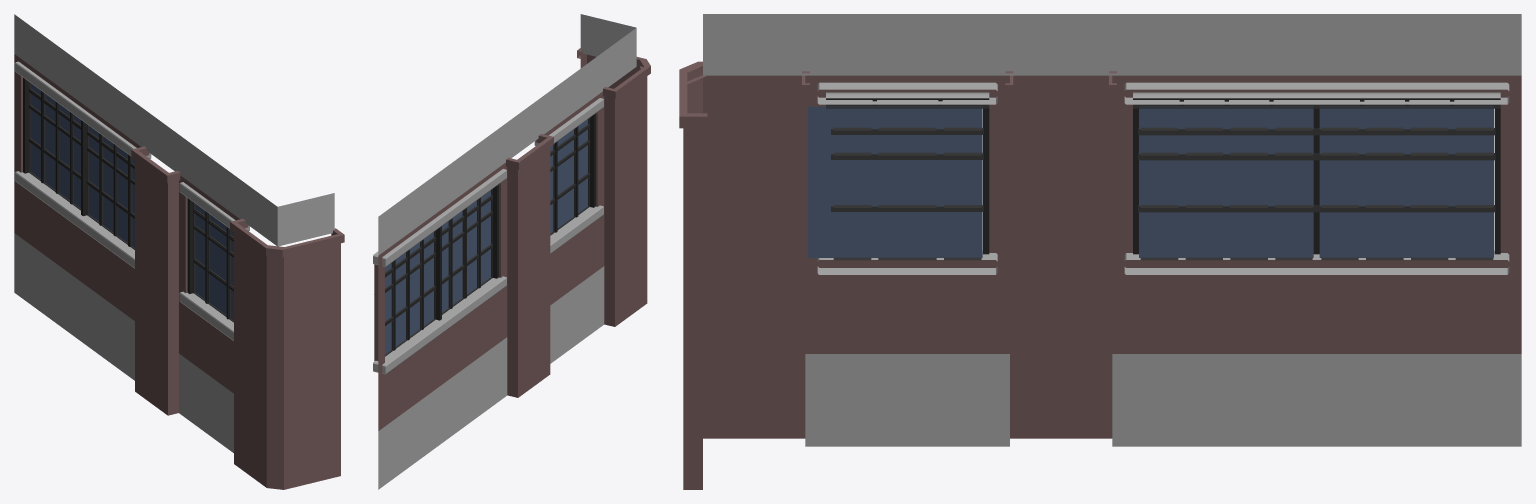
Rendered from hoek.fbx.
The picture shows the model from 3 angles, left to right: view 1: azimuth 30°, elevation 25°; view 2: azimuth 150°, elevation 25°; view 3: azimuth 270°, elevation 25°; orthographic projection. The views are drawn at different scales.
Visible parts, largest first — view 1: Plane862, Plane863, Plane904, Plane894, Object318, Plane865, Plane878, Plane896, Plane907, Object314, Object315, Object319 (+12 smaller); view 2: Plane863, Plane862, Plane904, Plane894, Object318, Plane865, Plane878, Plane896, Object317, Object320, Object314, Object315 (+12 smaller); view 3: Plane863, Plane862, Plane904, Plane894, Plane896, Plane878, Plane865, Object318, Object314, Object315, Object316, Object317 (+11 smaller).
Part boxes in pixels (bbox=[...]): Plane862: bbox=[230, 219, 344, 489]; Plane863: bbox=[14, 54, 151, 320]; Plane904: bbox=[131, 146, 180, 415]; Plane894: bbox=[179, 175, 249, 393]; Object318: bbox=[23, 77, 134, 246]; Plane865: bbox=[30, 83, 80, 208]; Plane878: bbox=[89, 126, 134, 247]; Plane896: bbox=[195, 204, 233, 320]; Plane907: bbox=[277, 193, 334, 246]; Object314: bbox=[14, 233, 46, 316]; Object315: bbox=[47, 257, 79, 340]; Object319: bbox=[179, 354, 211, 436]; Plane863: bbox=[373, 162, 507, 430]; Plane862: bbox=[577, 48, 650, 326]; Plane904: bbox=[506, 134, 553, 397]; Plane894: bbox=[534, 91, 604, 304]; Object318: bbox=[385, 184, 498, 350]; Plane865: bbox=[385, 232, 433, 354]; Plane878: bbox=[442, 190, 490, 312]; Plane896: bbox=[550, 119, 587, 233]; Object317: bbox=[475, 337, 507, 418]; Object320: bbox=[572, 266, 604, 347]; Object314: bbox=[378, 408, 410, 489]; Object315: bbox=[410, 384, 442, 465]; Plane863: bbox=[1112, 75, 1521, 353]; Plane862: bbox=[679, 61, 809, 489]; Plane904: bbox=[1005, 71, 1116, 438]; Plane894: bbox=[805, 75, 1009, 353]; Plane896: bbox=[808, 106, 982, 257]; Plane878: bbox=[1139, 106, 1313, 257]; Plane865: bbox=[1319, 106, 1493, 257]; Object318: bbox=[1133, 98, 1500, 254]; Object314: bbox=[1419, 354, 1521, 446]; Object315: bbox=[1317, 354, 1419, 446]; Object316: bbox=[1214, 354, 1316, 446]; Object317: bbox=[1112, 354, 1214, 446].
Size of the model in its own units: 191 by 700 by 1235.
